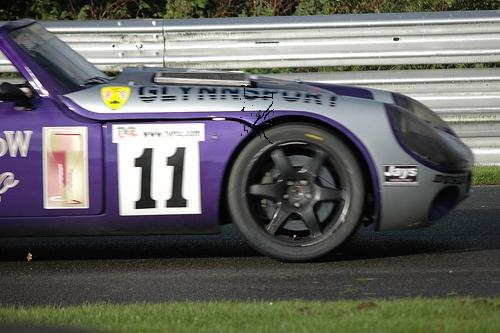tampered: (241, 86, 274, 144)
